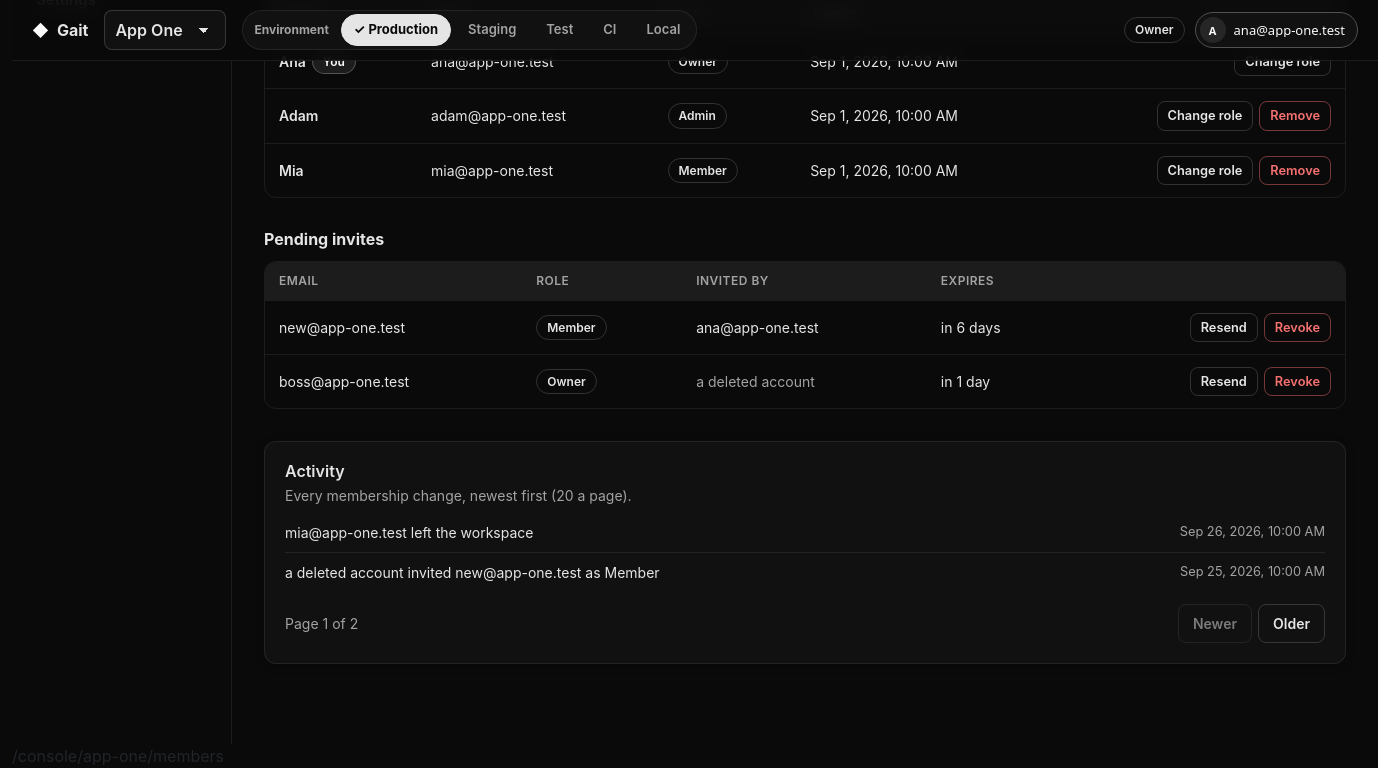
F4 activity › plain sentences, paginated
(page scrolled)
Check: the list named "Membership activity" shows "mia@app-one.test left the workspace", box [285,524,534,542]
Check: the list named "Membership activity" shows "a deleted account invited new@app-one.test as Member", box [285,564,660,582]
Click the button "Older": (1292, 624) [1258,604,1325,644]
(page scrolled)
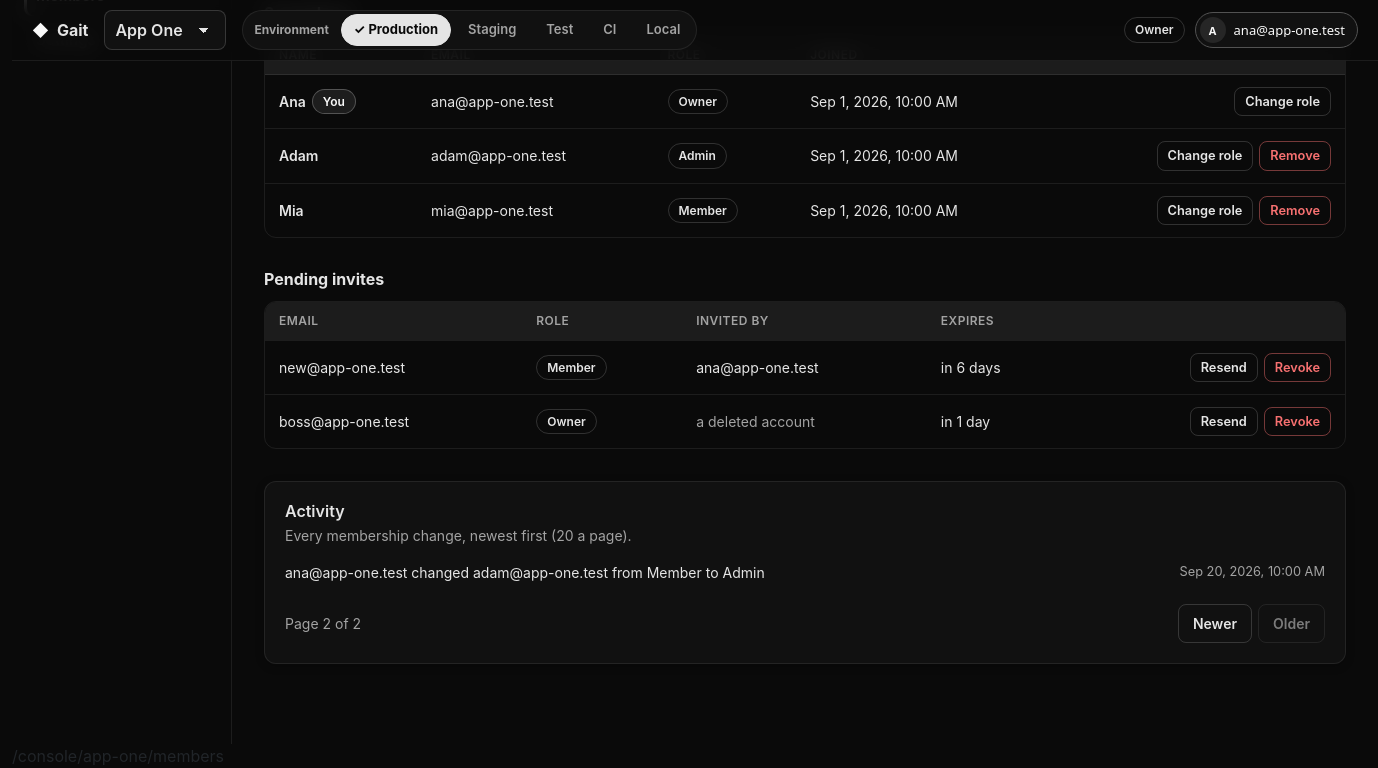
Check: the text "ana@app-one.test changed adam@app-one.test from Member to Admin" is shown, box [285,562,765,584]
